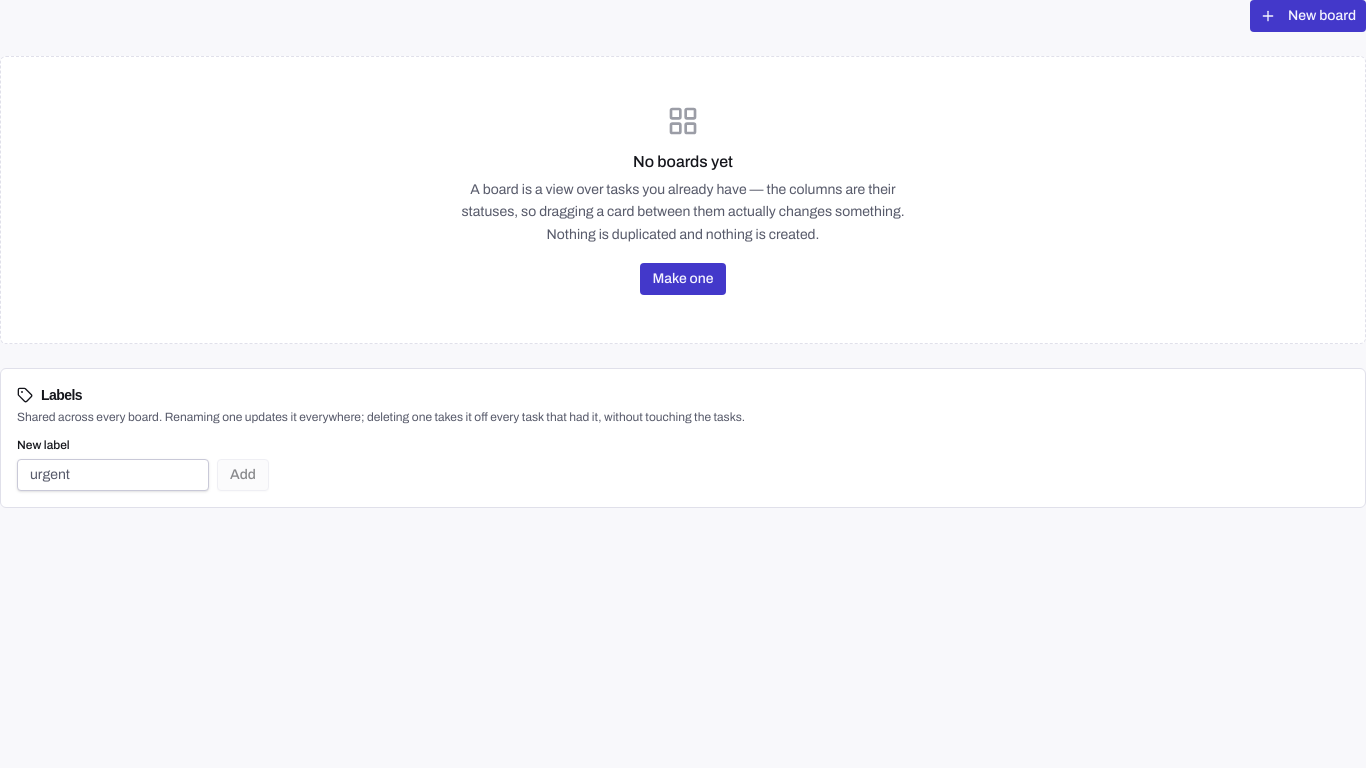
BoardsList › opens the create dialog from the empty state's "Make one" button
The width and height of the screenshot is (1366, 768).
Click the button "Make one": point(683, 279) top-left (640, 263), bottom-right (726, 295)
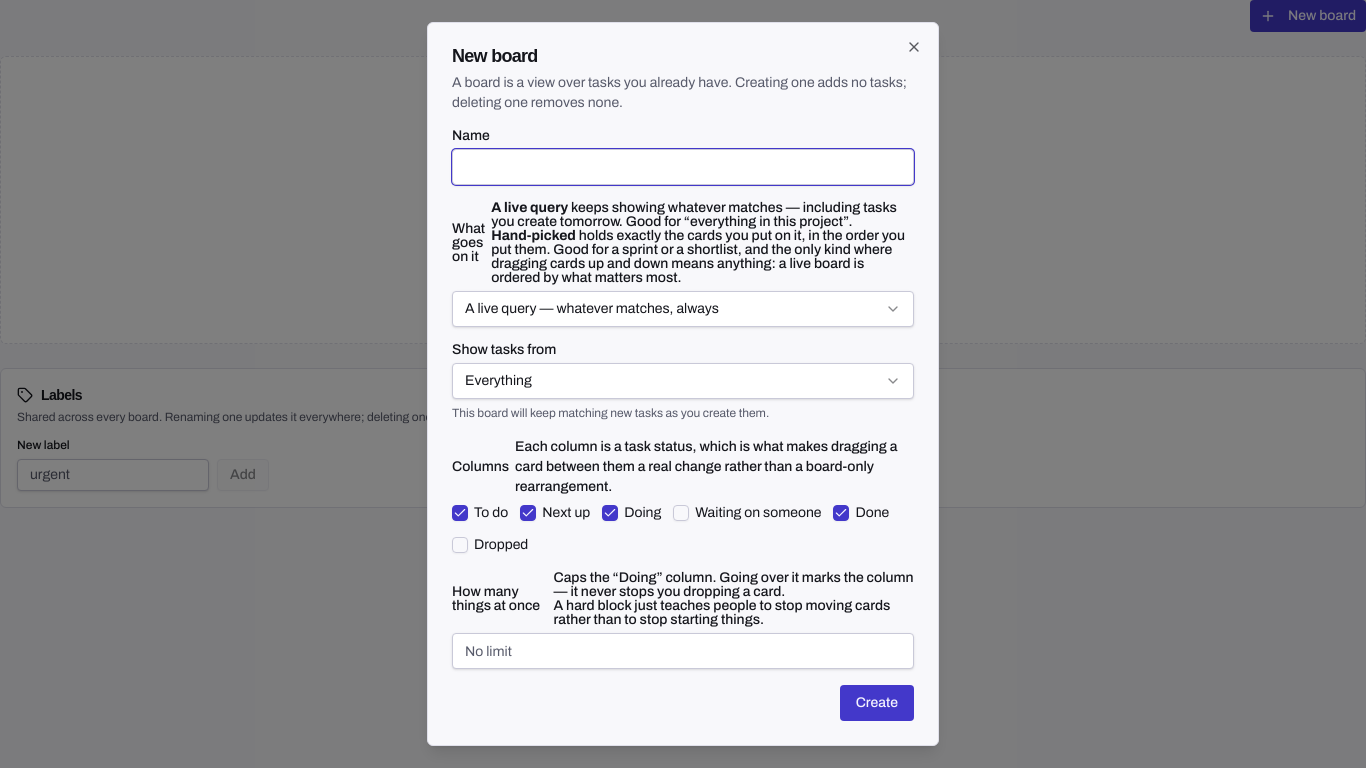
Now the heading "New board" is shown, box top-left (452, 46), bottom-right (538, 66)
